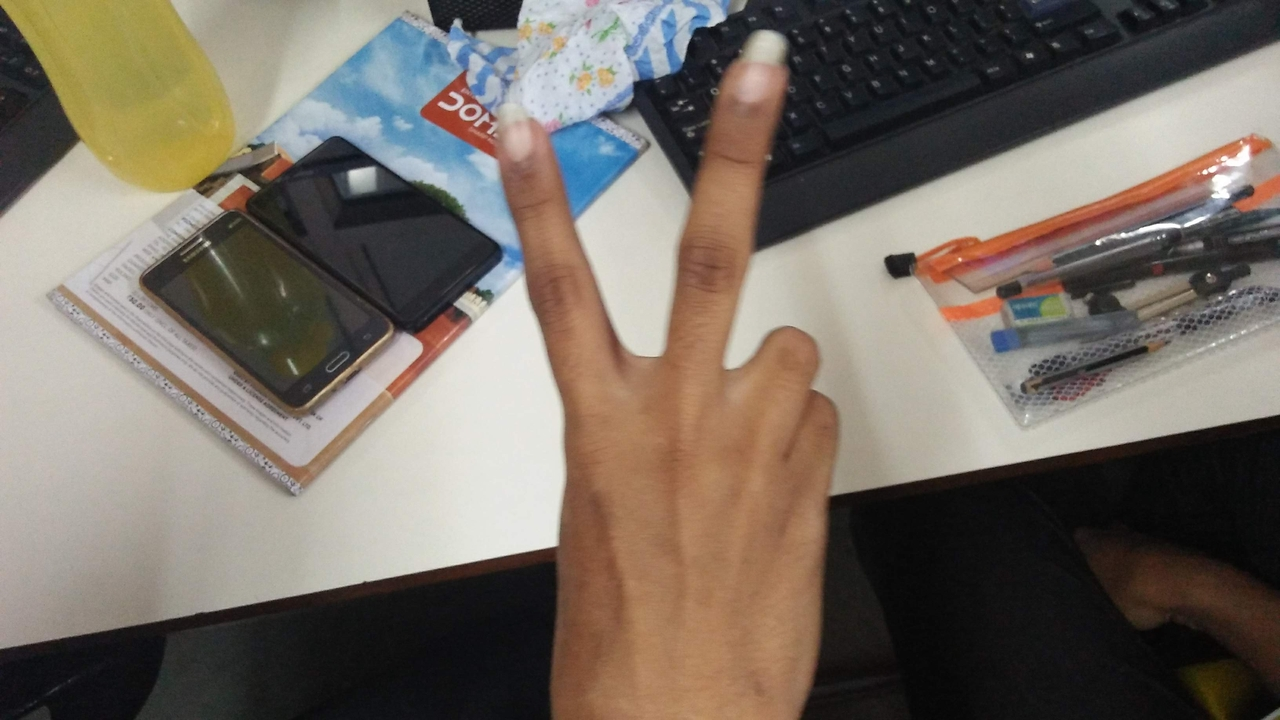fingertip: (726, 24, 796, 96), (484, 96, 552, 164)
